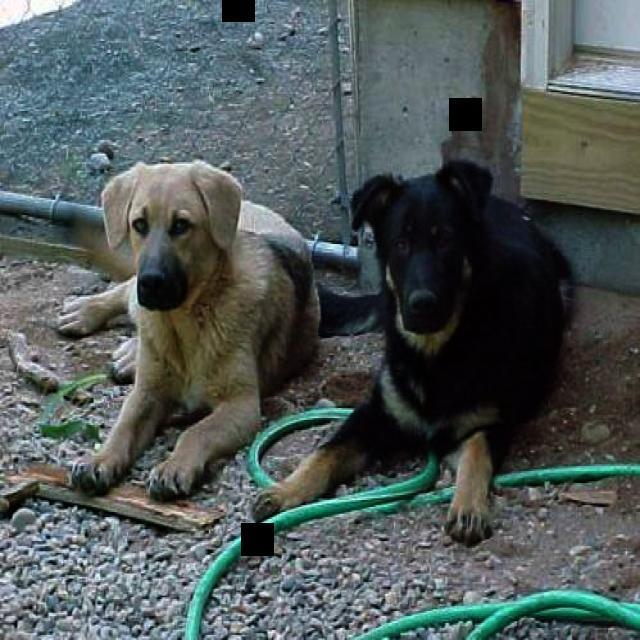adult_dog: (245, 165, 574, 547), (43, 161, 322, 497)
